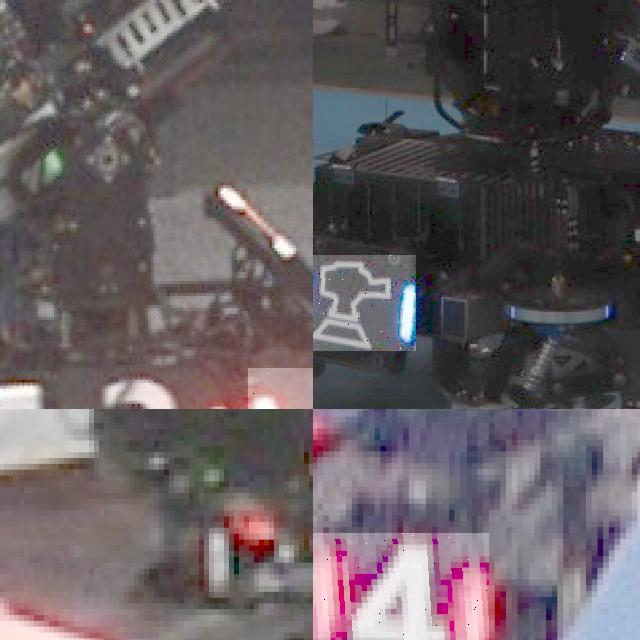Bs: (313, 255, 416, 351)
R4: (313, 532, 488, 640)
